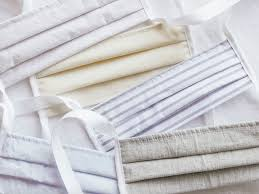cloth_mask: (53, 112, 259, 194)
